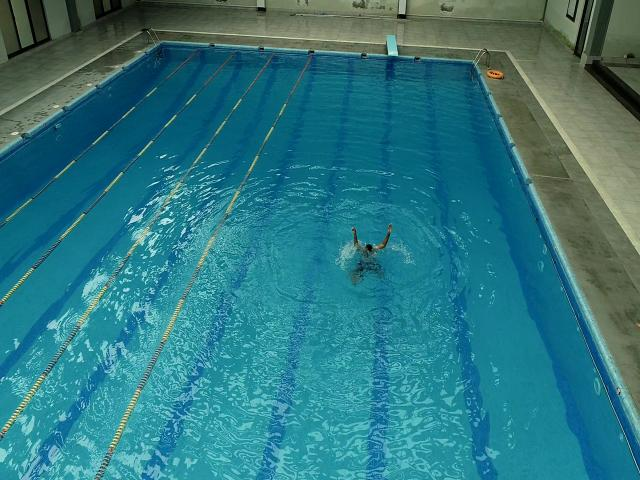drowning: (342, 222, 393, 286)
